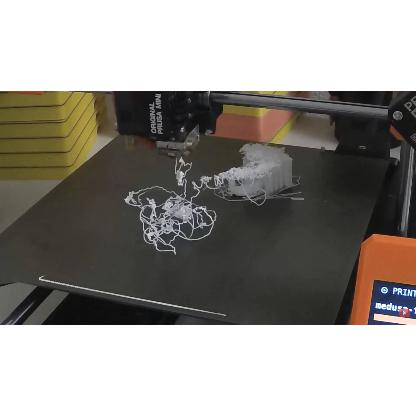fail: (123, 158, 225, 254), (227, 142, 289, 184)
